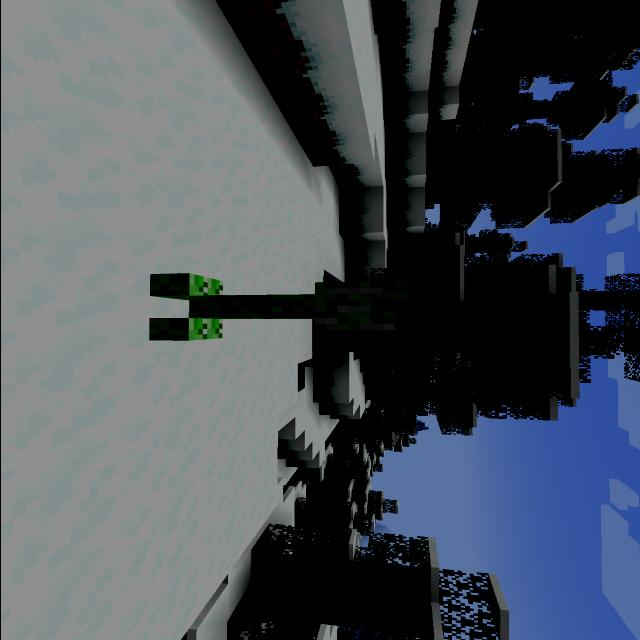Creeper: (130, 262, 422, 350)
